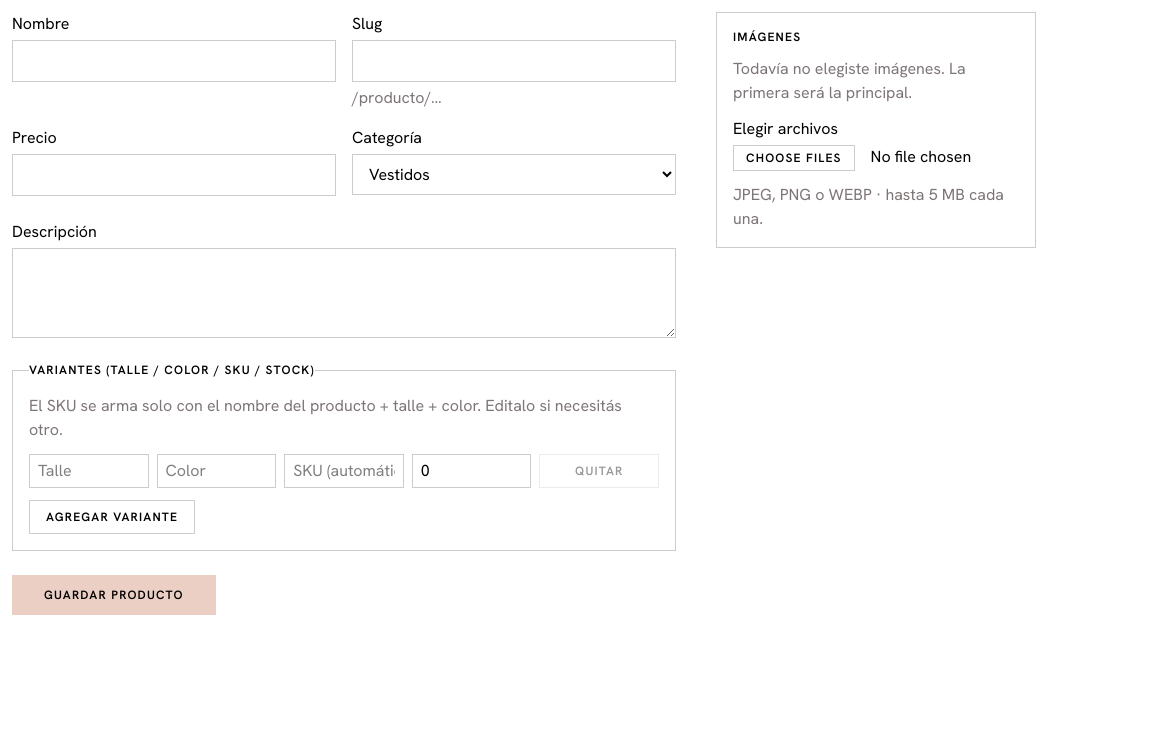
NewProductForm SKU auto-fill › resumes auto-deriving the SKU for a row whose SKU field was cleared
The width and height of the screenshot is (1164, 732).
Type "Campera Norte" into the field labelled "Nombre" at (174, 61), box [12,40,336,82]
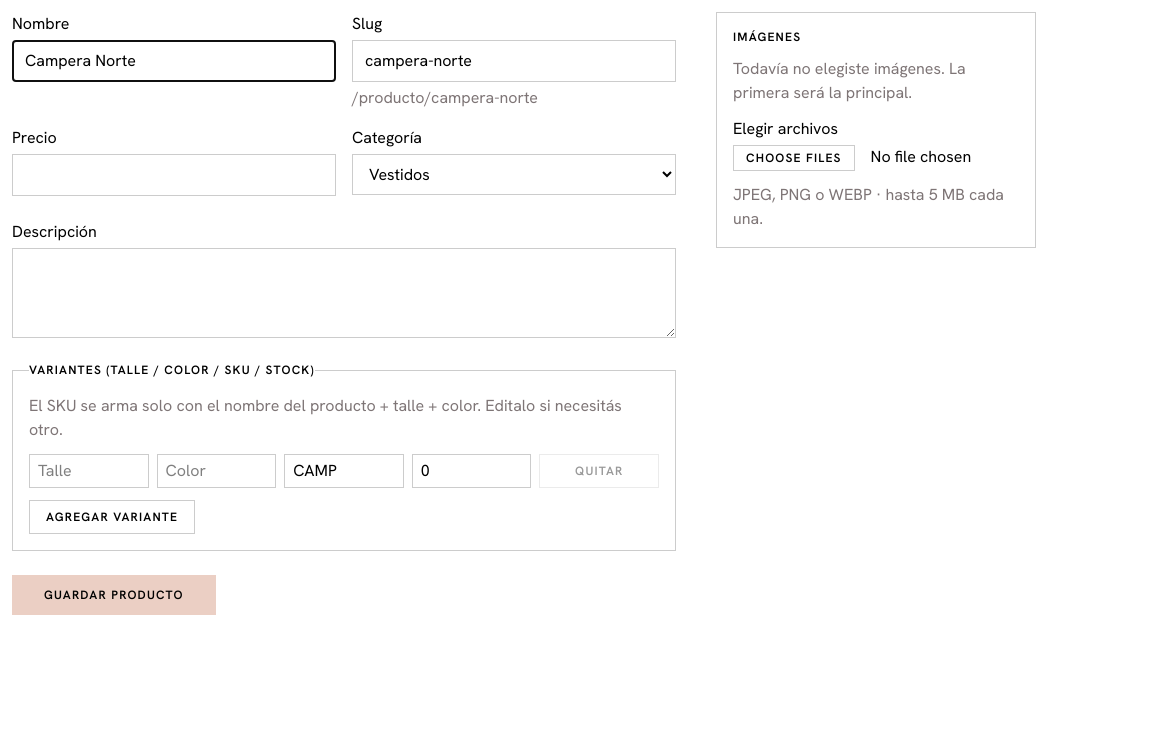
Type "L" into the field with placeholder "Talle" at (89, 471), box [29,454,149,488]
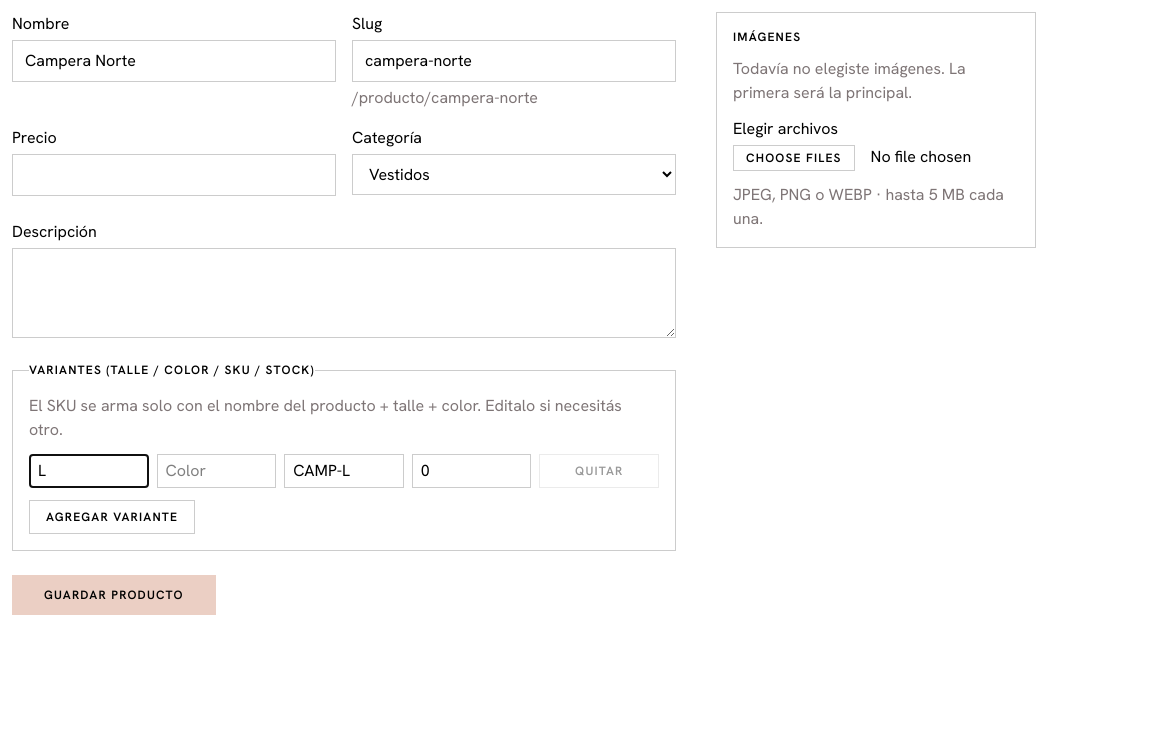
Type "Verde" into the field with placeholder "Color" at (216, 471), box [157,454,276,488]
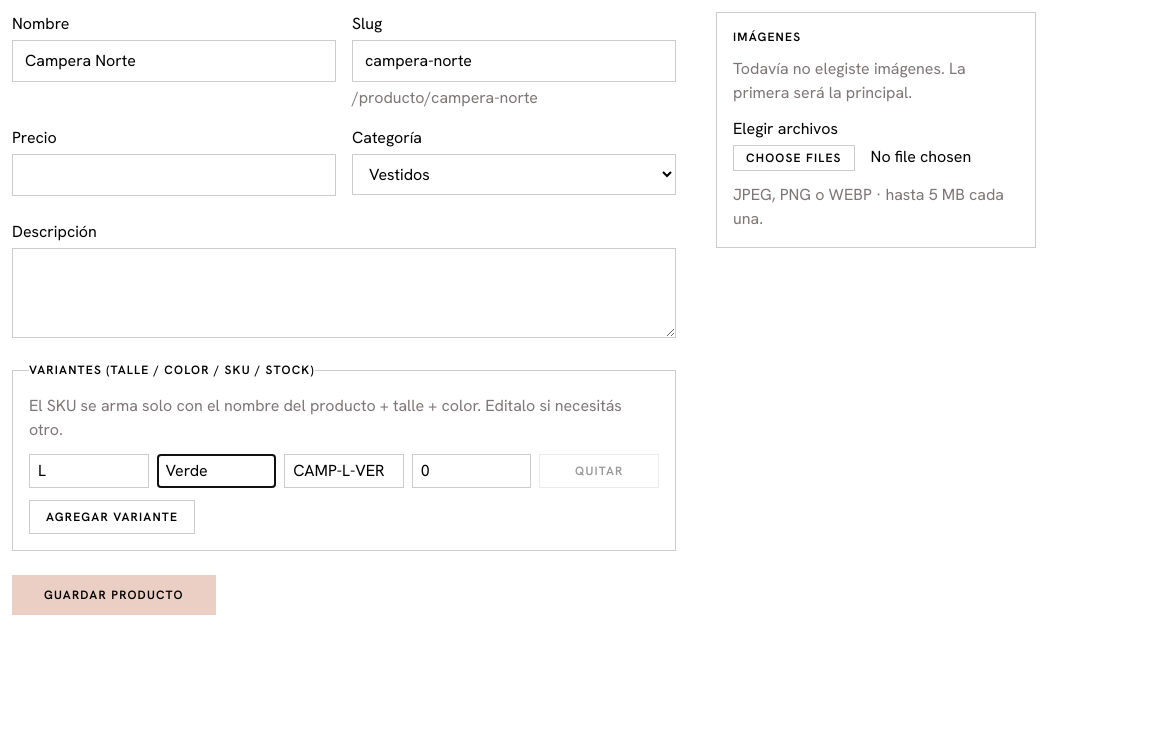
Expected: the 3rd field with placeholder "SKU (automático)" holds "CAMP-L-VER"
Replace the text in the 3rd field with placeholder "SKU (automático)" with "TEMP" at (344, 471), box [284,454,404,488]
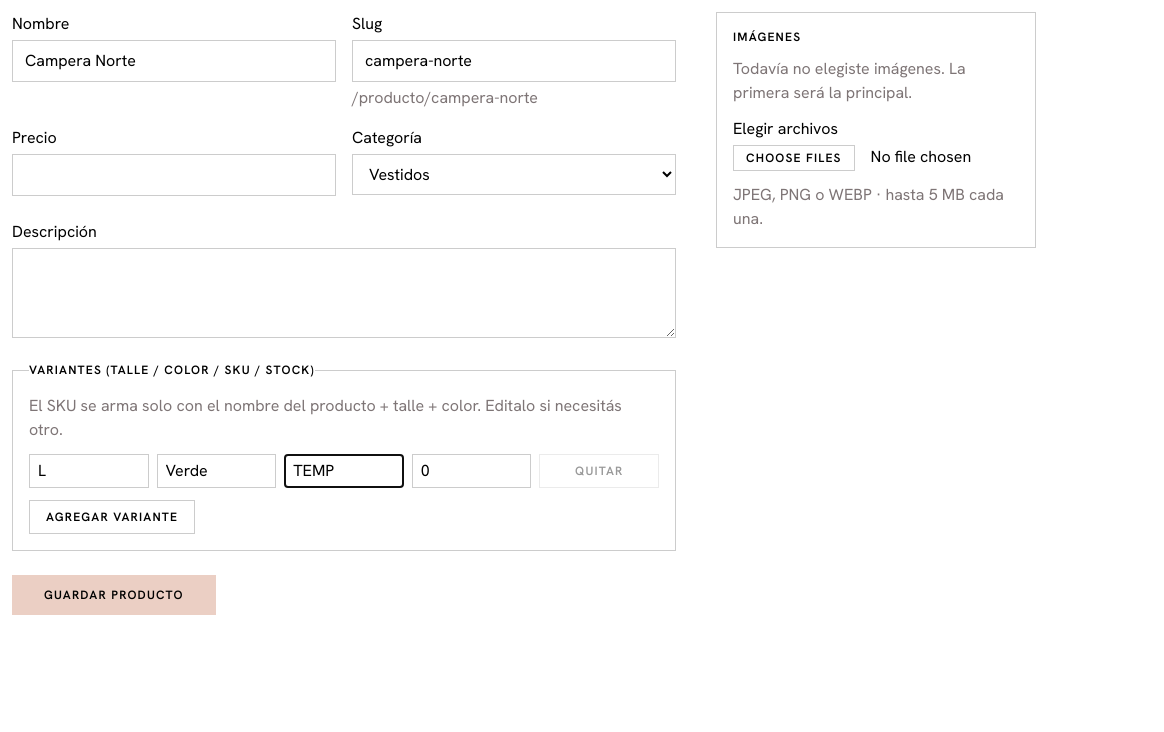
Clear the 3rd field with placeholder "SKU (automático)" at (344, 471), box [284,454,404,488]
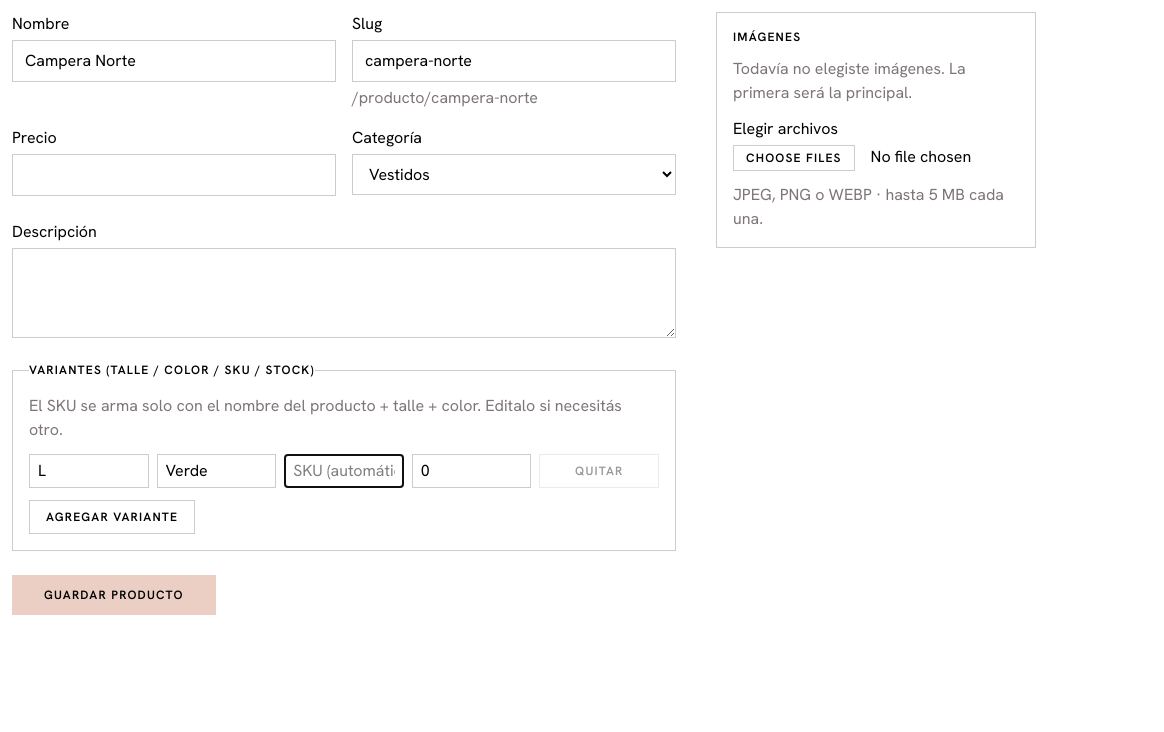
Replace the text in the 1st field with placeholder "Talle" with "XL" at (89, 471), box [29,454,149,488]
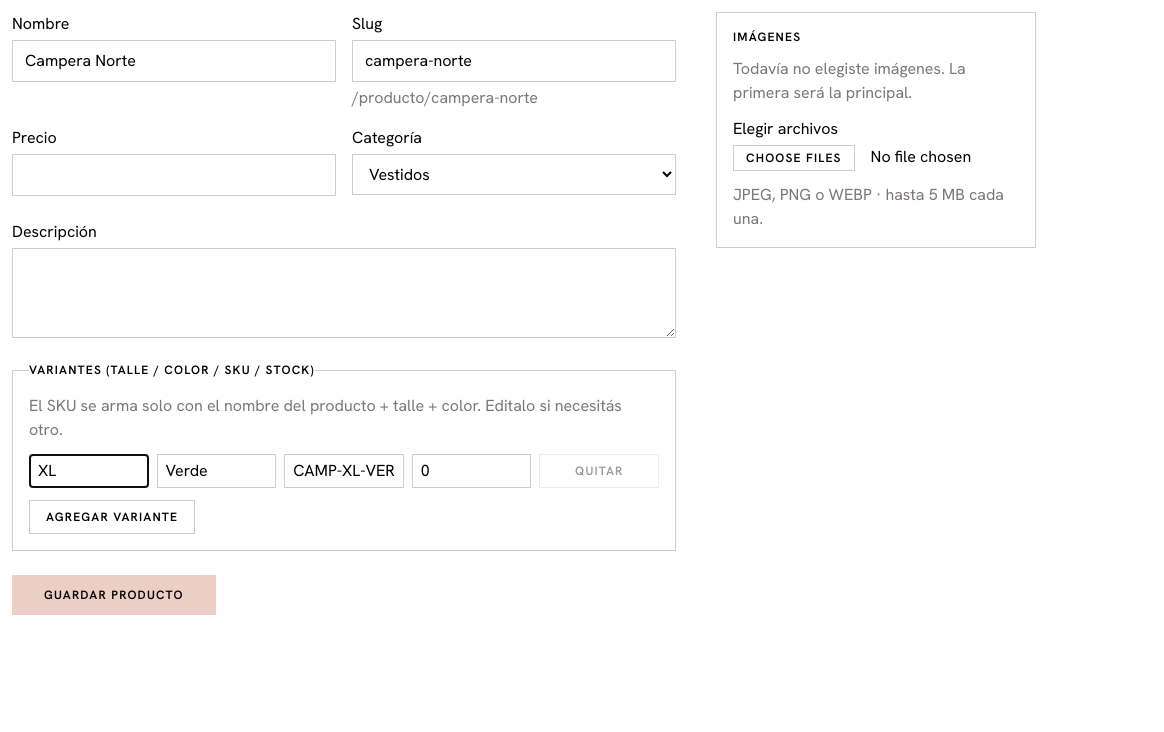
Expected: the 3rd field with placeholder "SKU (automático)" holds "CAMP-XL-VER", [284,454,404,488]
